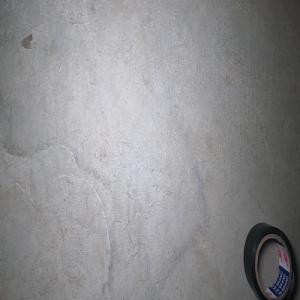Tape: (243, 222, 297, 300)
